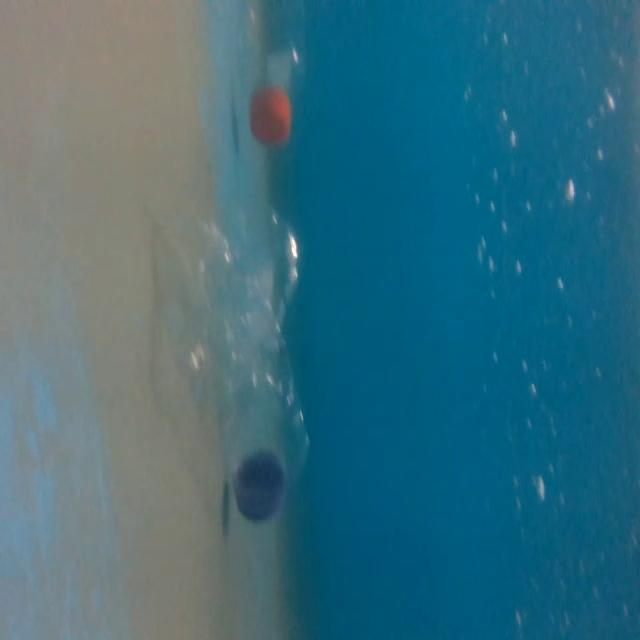plastic bottle: (171, 194, 319, 525), (231, 0, 317, 159)
